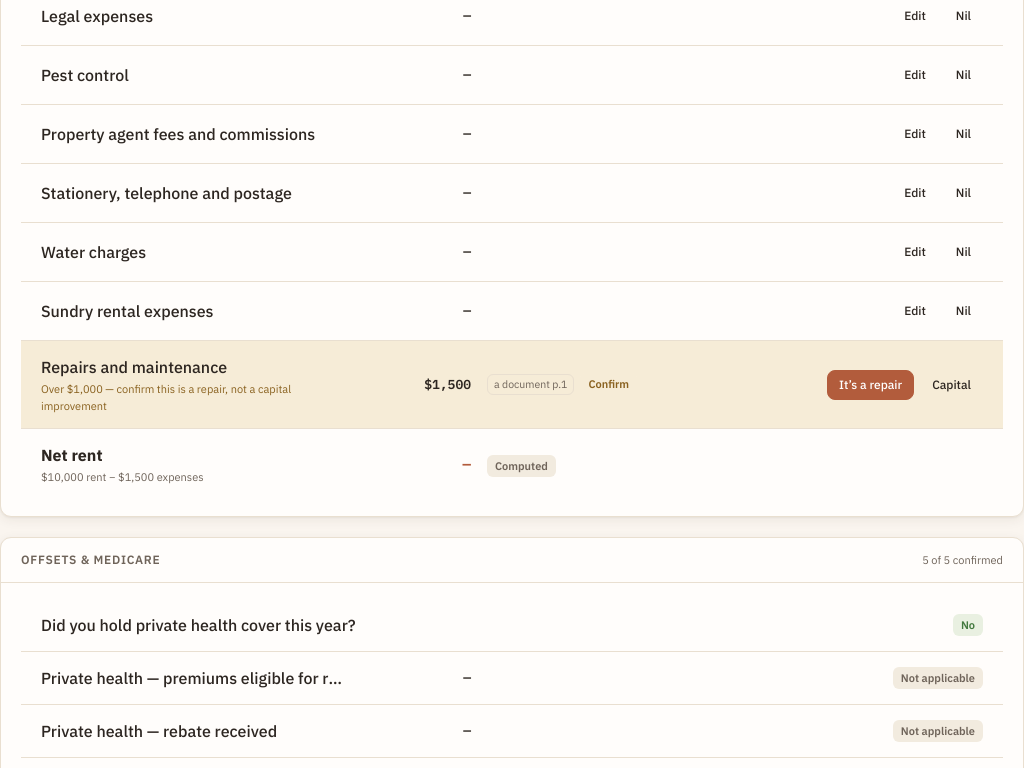
it: ReviewSections (PRD FR-7, FR-13, FR-21, FR-24) › the rental repairs prompt blocks Continue and reclassify moves the amount off the repairs line
The image size is (1024, 768).
(page scrolled)
Expected: the text "confirm this is a repair" is shown, [41,382,291,412]
What coordinates should you click on to do the following:
click the button "Capital"
I would click on:
 (952, 384)
Its box is [920,370,983,400].
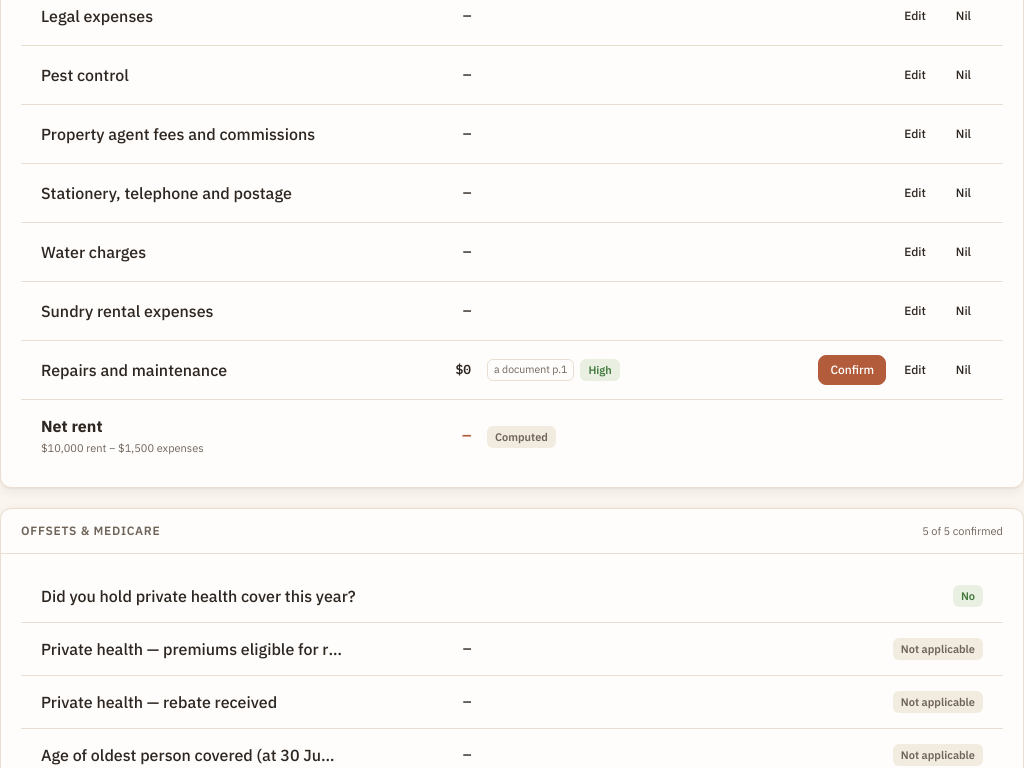
Result: the text "confirm this is a repair" is gone
